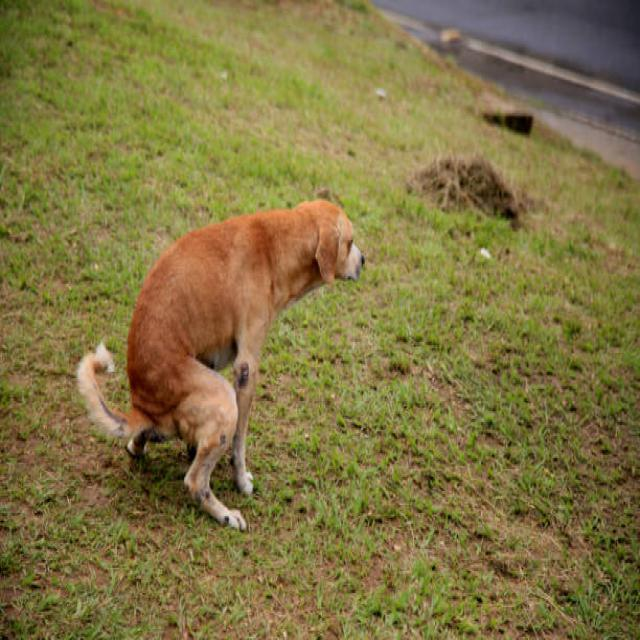Dogpoop: (69, 194, 372, 518)
